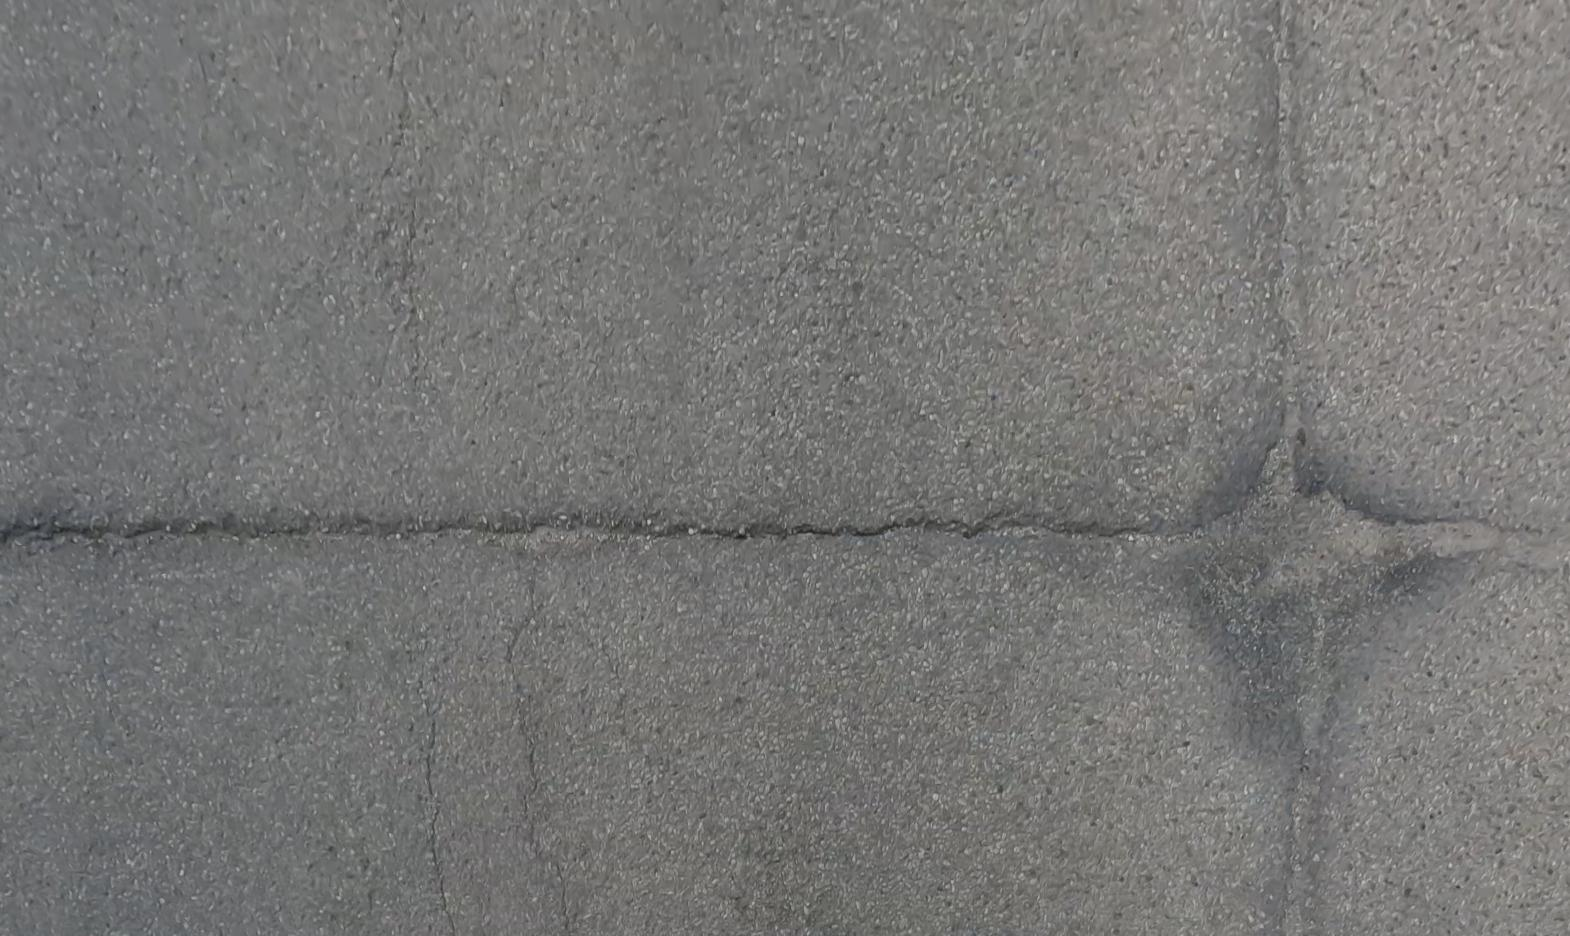pothole: (1177, 429, 1511, 640)
